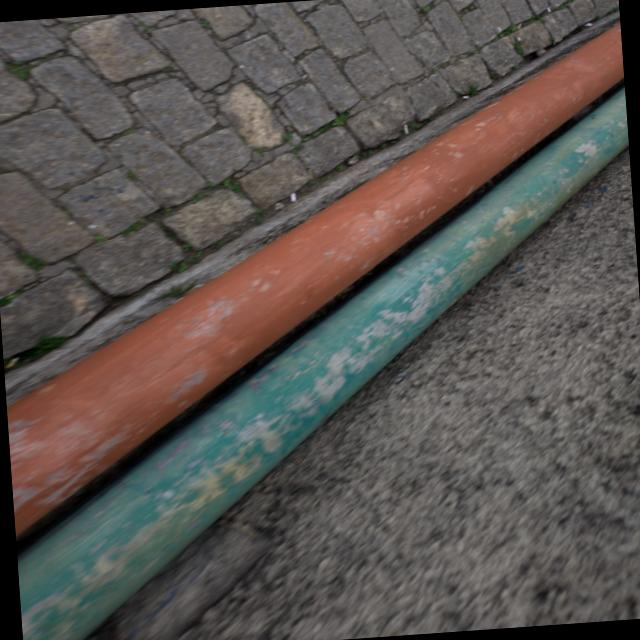gas: (16, 89, 628, 640), (6, 18, 624, 538)
